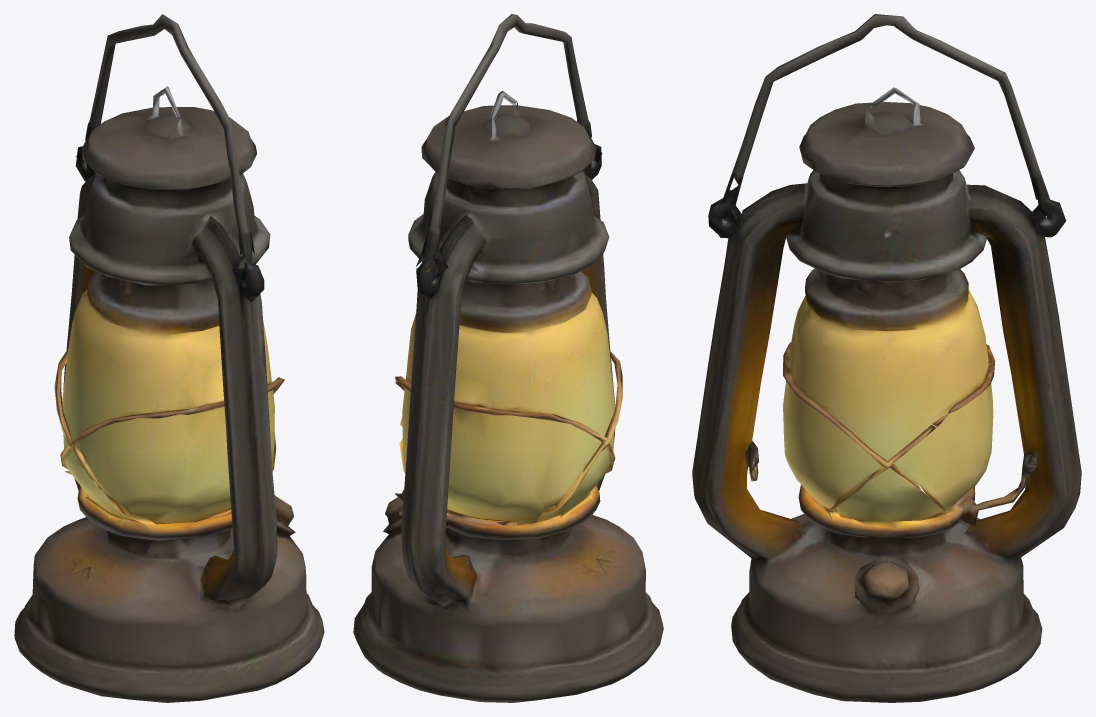
Rendered from lantern.glb.
3 views of the same model, side by side, from view 1: azimuth 30°, elevation 25°; view 2: azimuth 150°, elevation 25°; view 3: azimuth 270°, elevation 25° (orthographic).
Visible parts, largest first — view 1: tripo_node_708677d7-3132-4ef5-8386-93fa448ddb11; view 2: tripo_node_708677d7-3132-4ef5-8386-93fa448ddb11; view 3: tripo_node_708677d7-3132-4ef5-8386-93fa448ddb11.
Boxes of the visible parts, x1,y1,x2,y2 form: tripo_node_708677d7-3132-4ef5-8386-93fa448ddb11: (14, 14, 324, 702); tripo_node_708677d7-3132-4ef5-8386-93fa448ddb11: (353, 14, 663, 702); tripo_node_708677d7-3132-4ef5-8386-93fa448ddb11: (692, 14, 1081, 702).
Bounding box in the file's own units: 0.451 × 0.9985 × 0.5611.
Materials: 1 (1 with a texture image).
